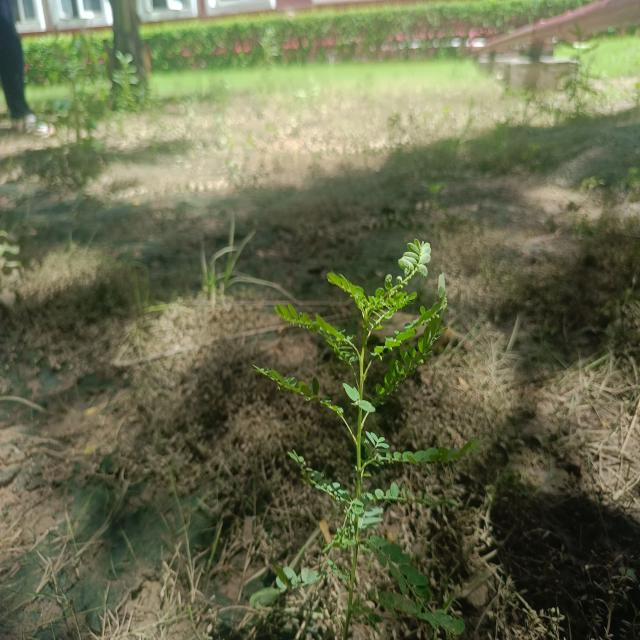weed: (253, 242, 475, 640)
